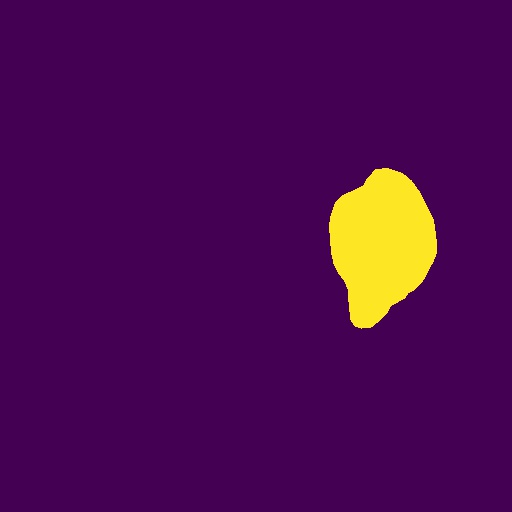Menigiomia_tumour: (329, 168, 437, 329)
